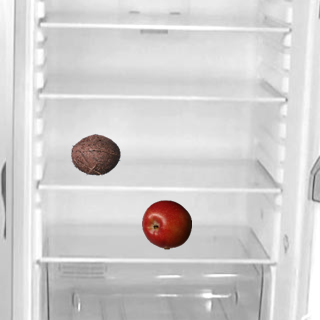Apple Braeburn: (141, 199, 191, 249)
Cocos: (70, 129, 120, 179)
